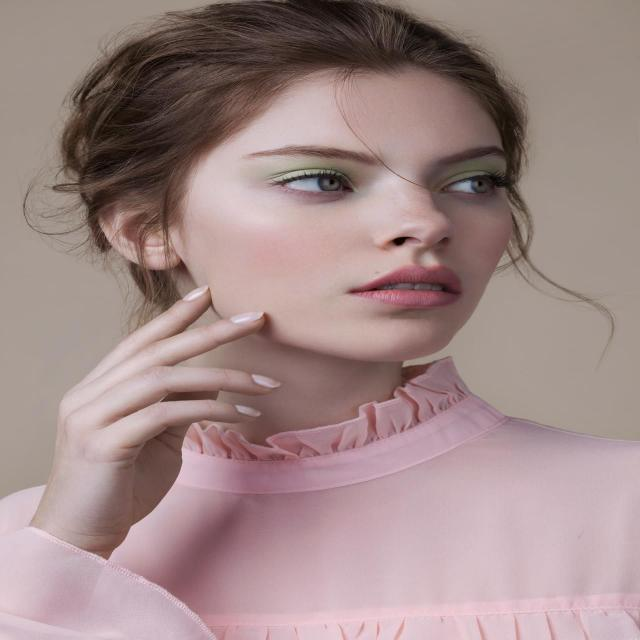earlobe: (141, 244, 177, 272)
eye: (275, 170, 356, 195), (437, 172, 500, 196)
nose: (378, 232, 470, 266)
wholeear: (93, 178, 178, 272)
